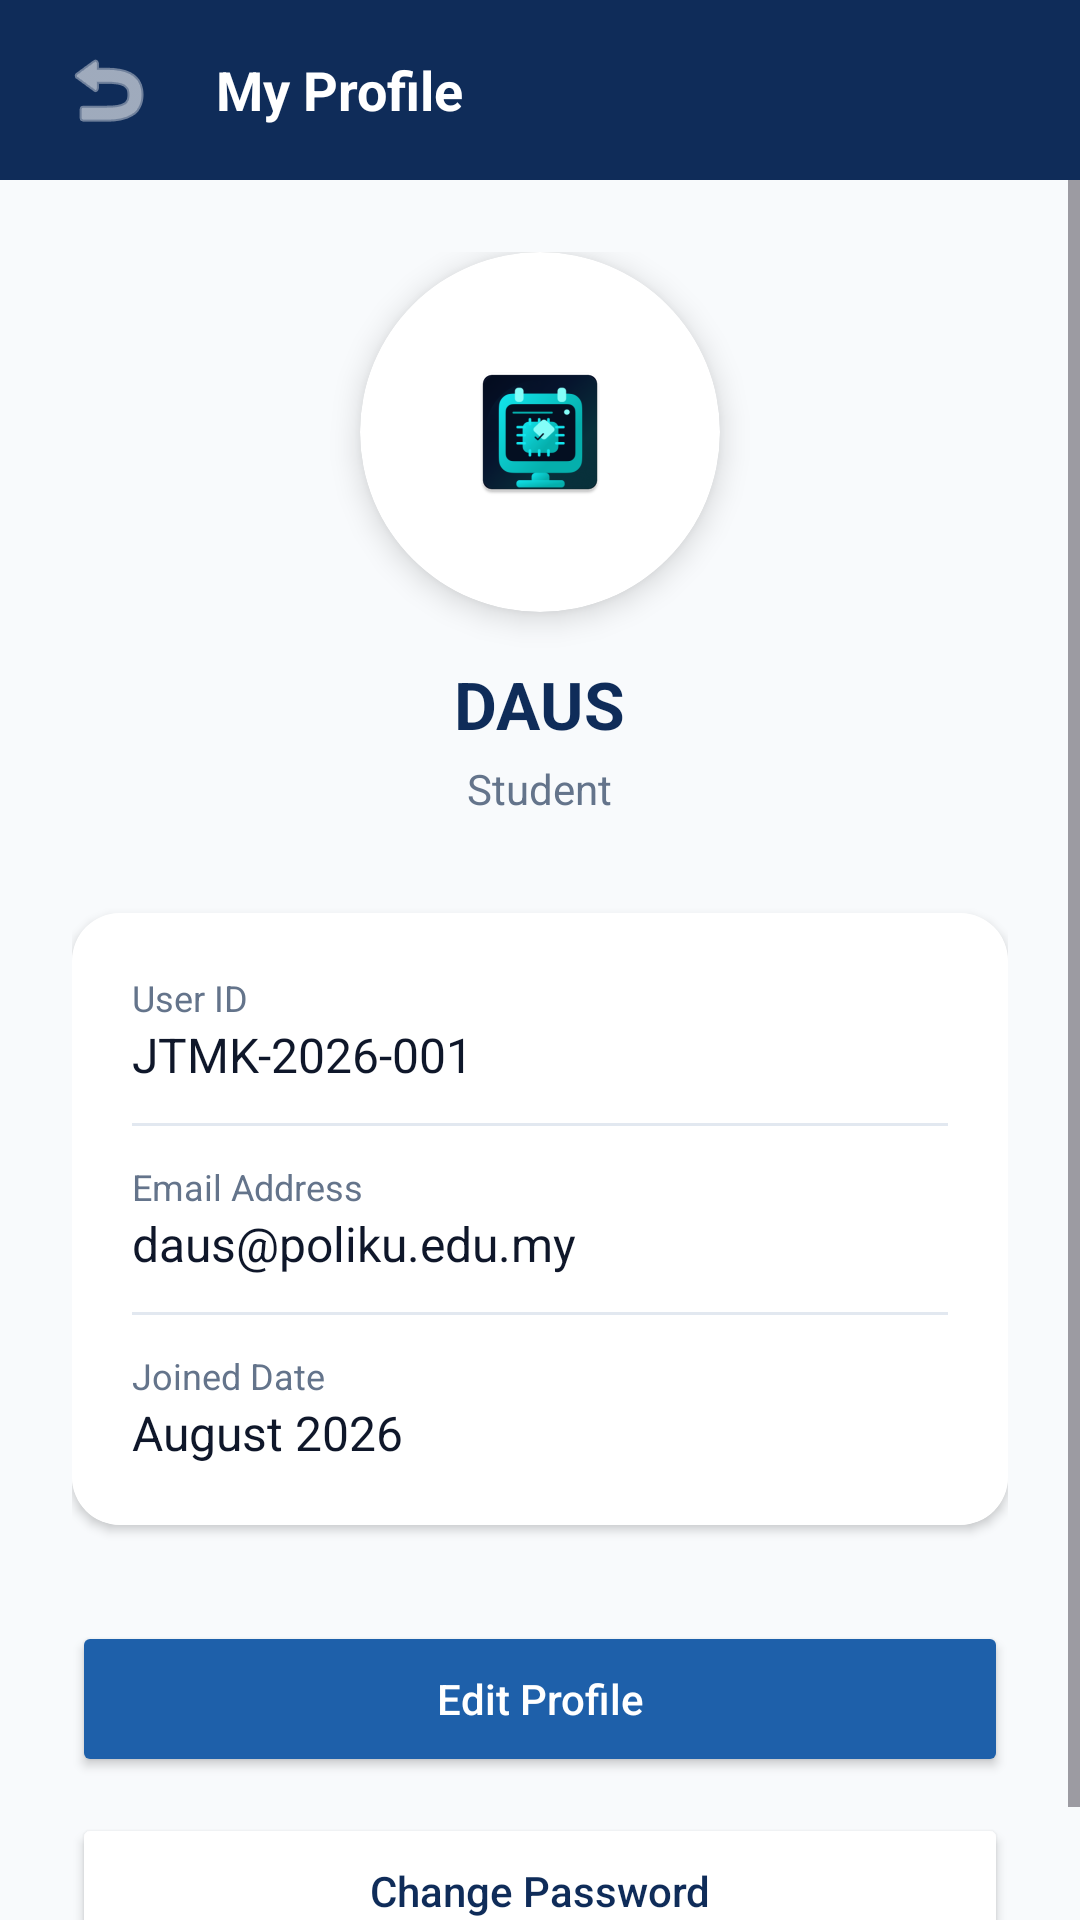

Where to tap for icons on this 1080x1920 app screen, as point (x, y):
Back: point (109, 90)
